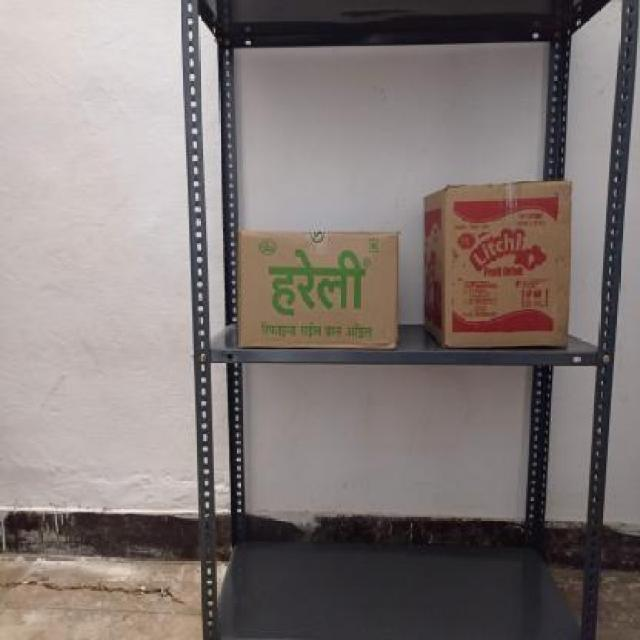box: (445, 184, 570, 347), (238, 232, 400, 351)
